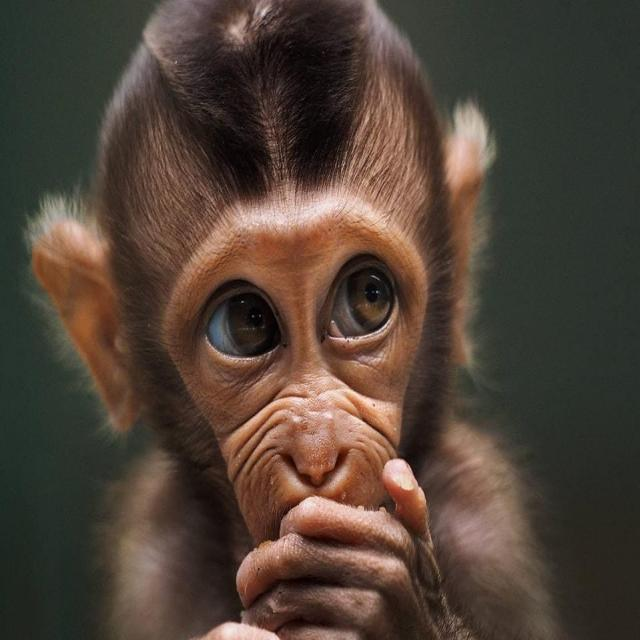Animals: (21, 0, 572, 614)
